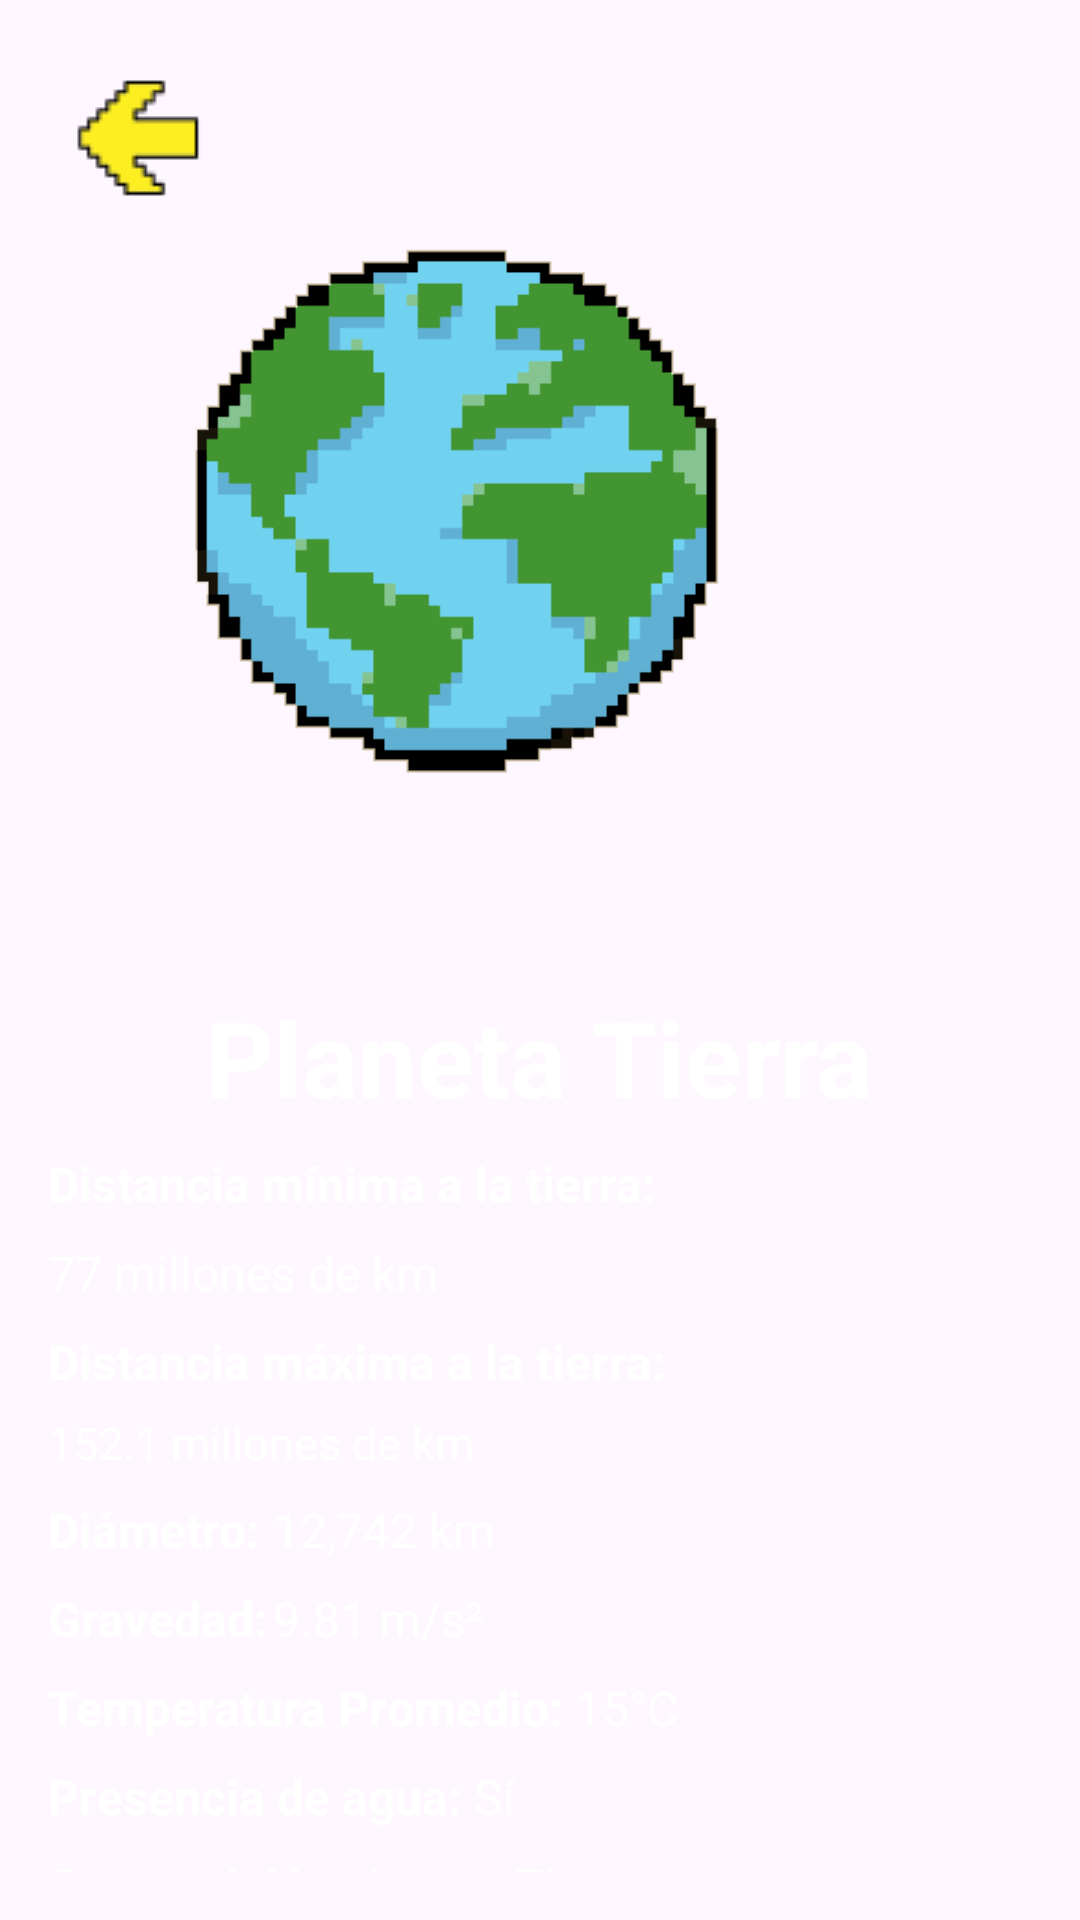

Icon bounding boxes for this 1080*1920 phone screenshot, format box(x1, y1, x2, y2):
flecha: box(77, 80, 199, 196)
